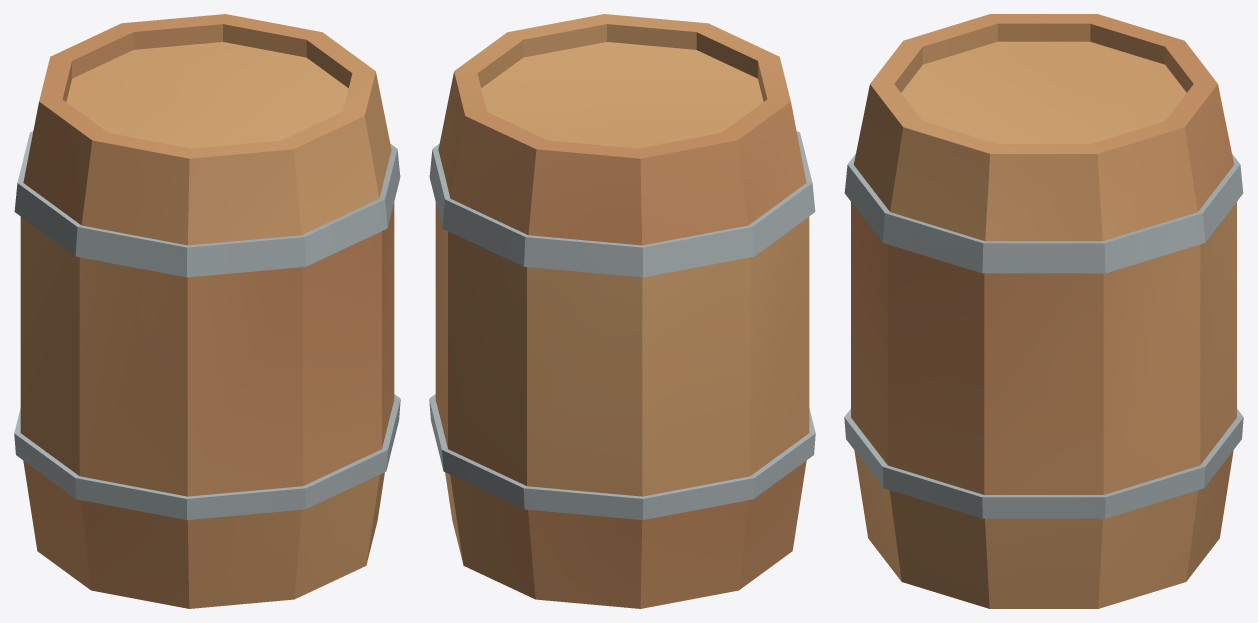
Rendered from barrel.fbx.
3 renders of one model, left to right at view 1: azimuth 30°, elevation 25°; view 2: azimuth 150°, elevation 25°; view 3: azimuth 270°, elevation 25°, orthographic.
Parts seen in each view (by area): view 1: barrel; view 2: barrel; view 3: barrel.
Boxes of the visible parts, x1,y1,x2,y2 form: barrel: (14,14,400,608); barrel: (429,14,815,608); barrel: (844,14,1243,608).
Size of the model in its own units: 102 by 134 by 107.
1 material, 1 textured.
